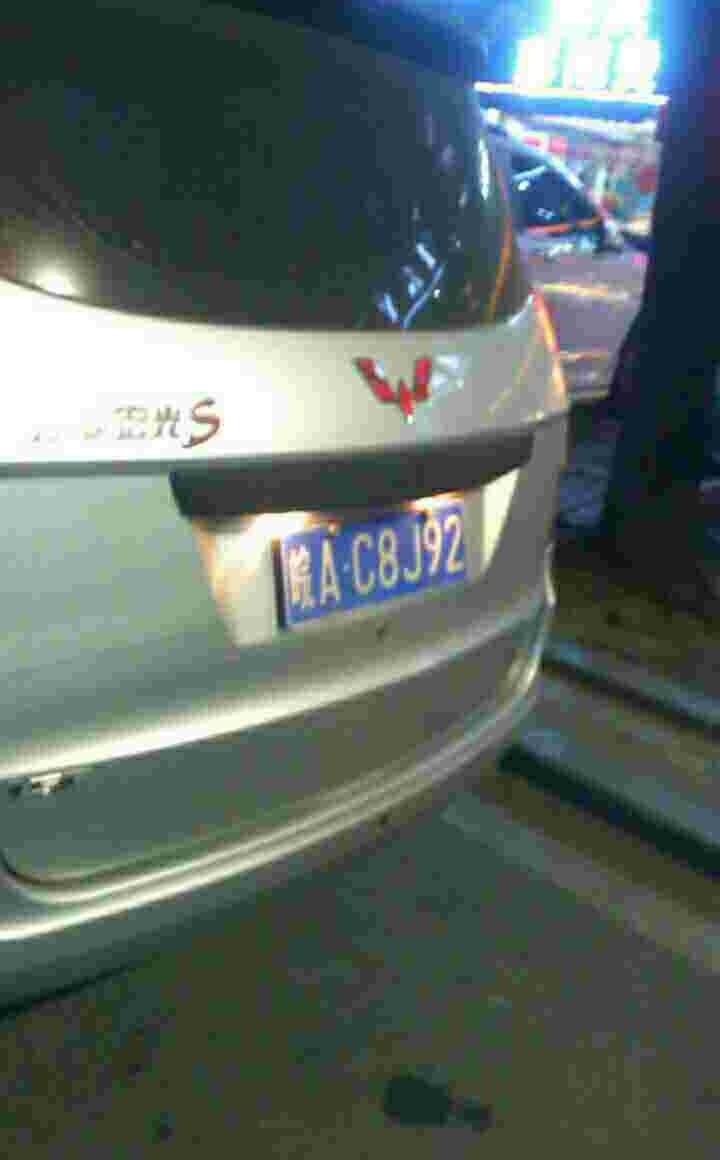license_plate: (280, 508, 470, 624)
